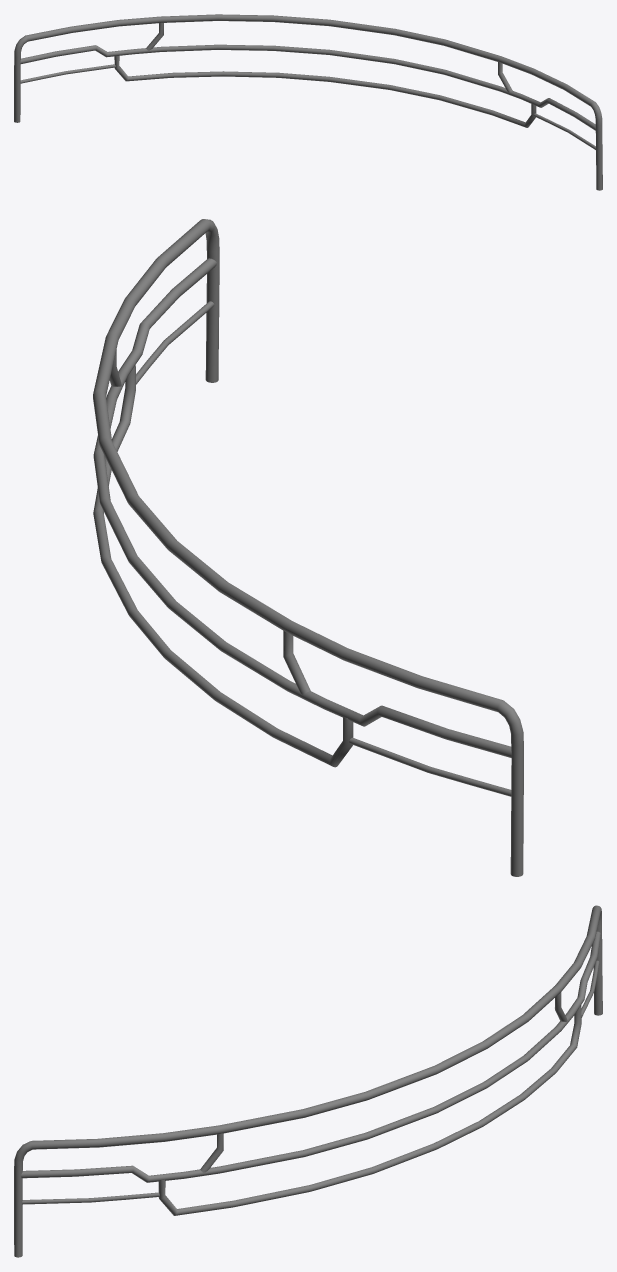
File: q-scifi-mod-prop-rail-round-big.glb
3 renders of one model, top to bottom at view 1: azimuth 30°, elevation 25°; view 2: azimuth 150°, elevation 25°; view 3: azimuth 270°, elevation 25°, orthographic. The views are drawn at different scales.
Visible parts, largest first — view 1: Prop_Rail_Round_Big; view 2: Prop_Rail_Round_Big; view 3: Prop_Rail_Round_Big.
Part boxes in pixels (x1=…): Prop_Rail_Round_Big: x1=14, y1=14, x2=602, y2=190; Prop_Rail_Round_Big: x1=93, y1=219, x2=523, y2=876; Prop_Rail_Round_Big: x1=14, y1=905, x2=602, y2=1257.
Size of the model in its own units: 4 by 0.8624 by 4.05.
Materials: 1 (1 with a texture image).
